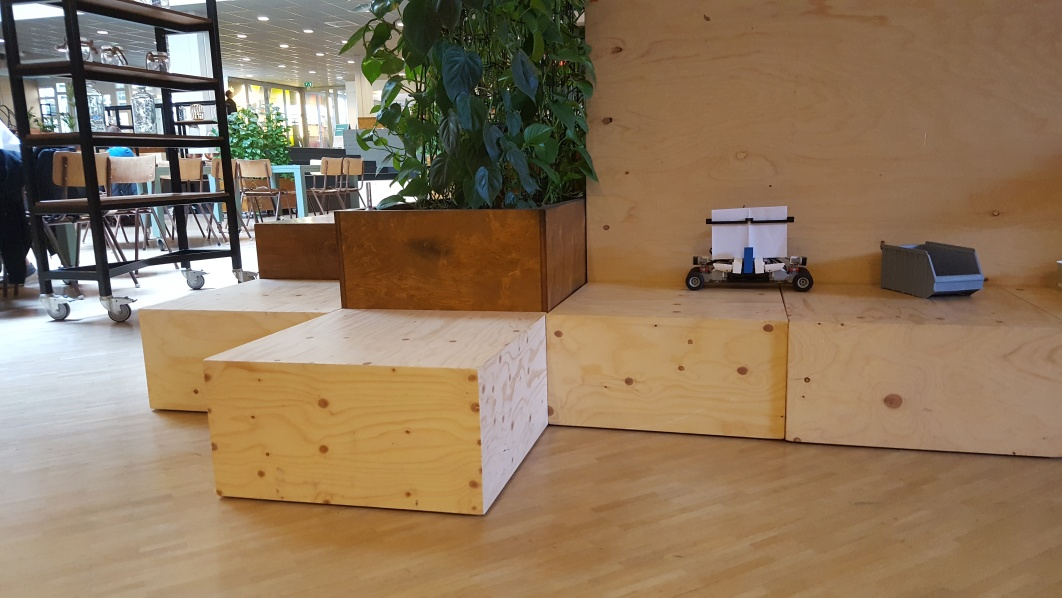beam: (742, 246, 756, 277)
tray: (875, 239, 986, 299)
